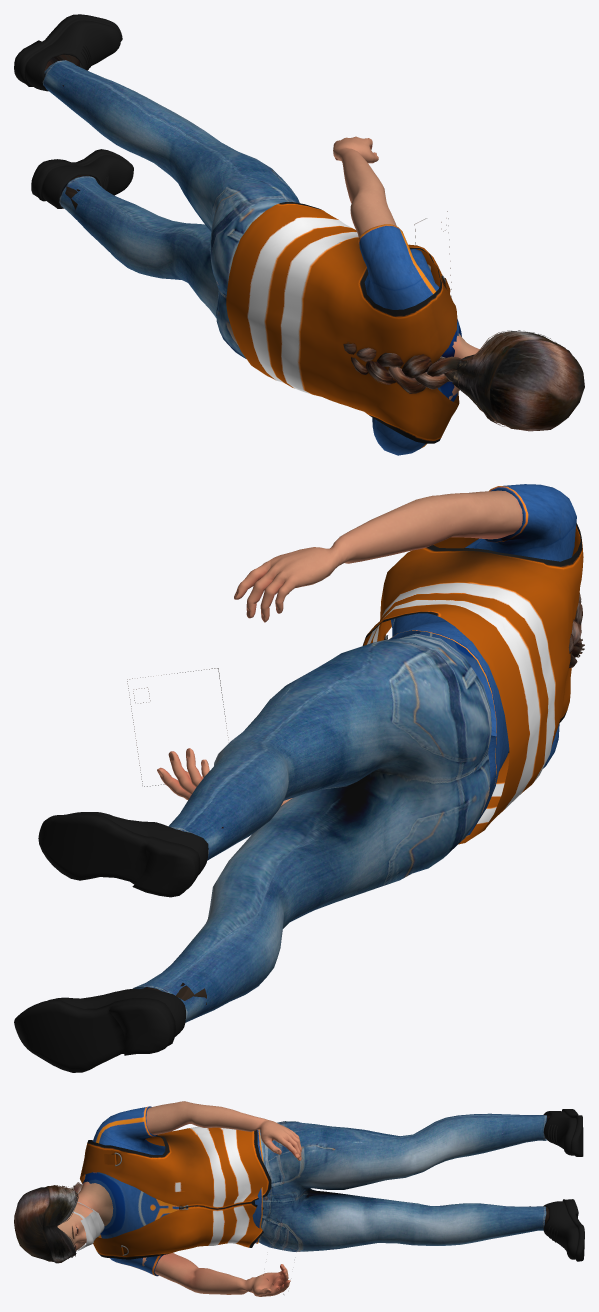
The model's file is worker_low_inspect.obj.
3 views of the same model, one above another, from view 1: azimuth 30°, elevation 25°; view 2: azimuth 150°, elevation 25°; view 3: azimuth 270°, elevation 25° (orthographic). The views are drawn at different scales.
Visible parts, largest first — view 1: worker_low_inspect; view 2: worker_low_inspect; view 3: worker_low_inspect.
Boxes of the visible parts, x1=… form: worker_low_inspect: x1=14, y1=14, x2=584, y2=455; worker_low_inspect: x1=14, y1=484, x2=584, y2=1072; worker_low_inspect: x1=14, y1=1101, x2=584, y2=1296.
Bounding box in the file's own units: 0.5848 × 0.5467 × 1.63.
7 materials, 7 textured.
